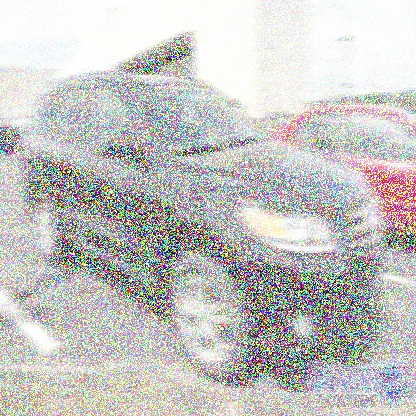Vehicle: (18, 69, 387, 386)
